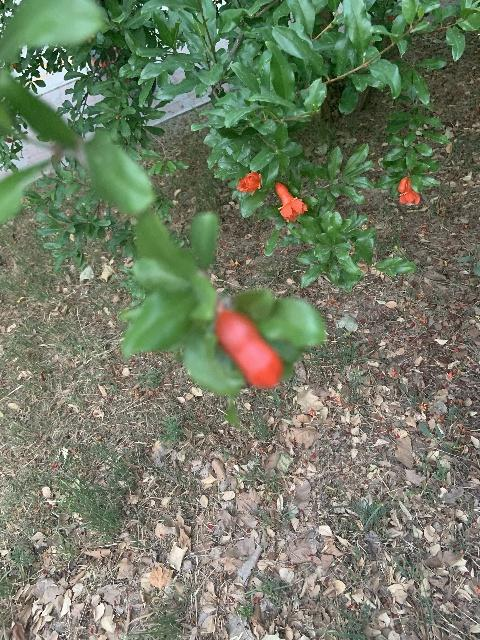bud: (214, 306, 283, 390), (397, 177, 406, 192)
flower: (274, 181, 307, 222), (236, 170, 261, 194), (399, 179, 420, 204)
